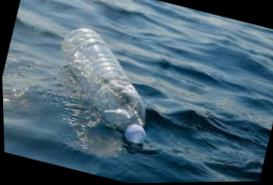plastic: (61, 28, 145, 150)
